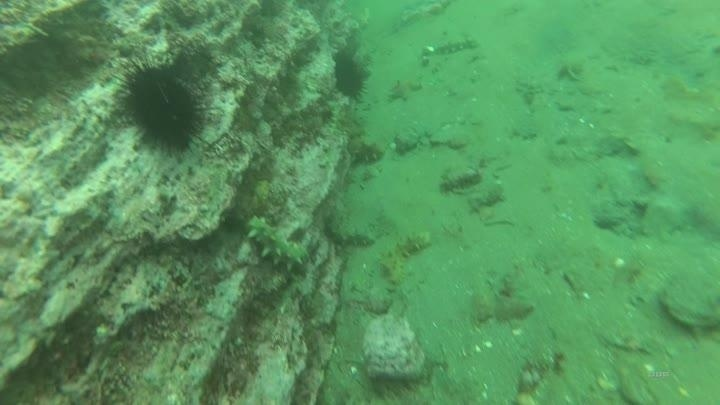echinus: (113, 58, 211, 156), (329, 48, 372, 102)
holothurian: (241, 212, 312, 273), (333, 103, 387, 168), (377, 229, 434, 287), (322, 194, 379, 249), (421, 32, 481, 59)
starfish: (386, 75, 424, 104)
